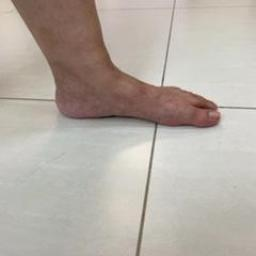Medial View -Left Foot-: (29, 38, 241, 152)
